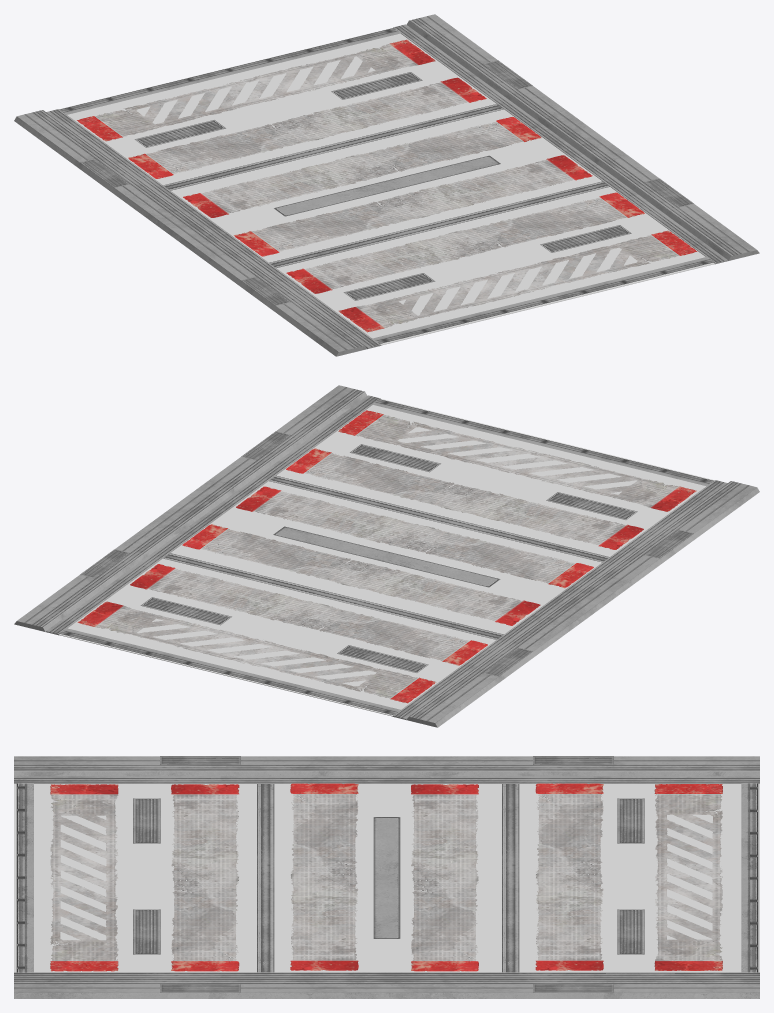
The model's file is CP_Pedestrian_Crossing_01.fbx.
3 views of the same model, one above another, from view 1: azimuth 30°, elevation 25°; view 2: azimuth 150°, elevation 25°; view 3: azimuth 270°, elevation 25° (orthographic). The views are drawn at different scales.
Visible parts, largest first — view 1: CP_Pedestrian_Crossing_01; view 2: CP_Pedestrian_Crossing_01; view 3: CP_Pedestrian_Crossing_01.
Part boxes in pixels (box(x1,y1,x2,y2)): CP_Pedestrian_Crossing_01: box(14, 14, 759, 356); CP_Pedestrian_Crossing_01: box(14, 385, 759, 727); CP_Pedestrian_Crossing_01: box(14, 756, 759, 998).
Bounding box in the file's own units: 456 × 4.25 × 600.
